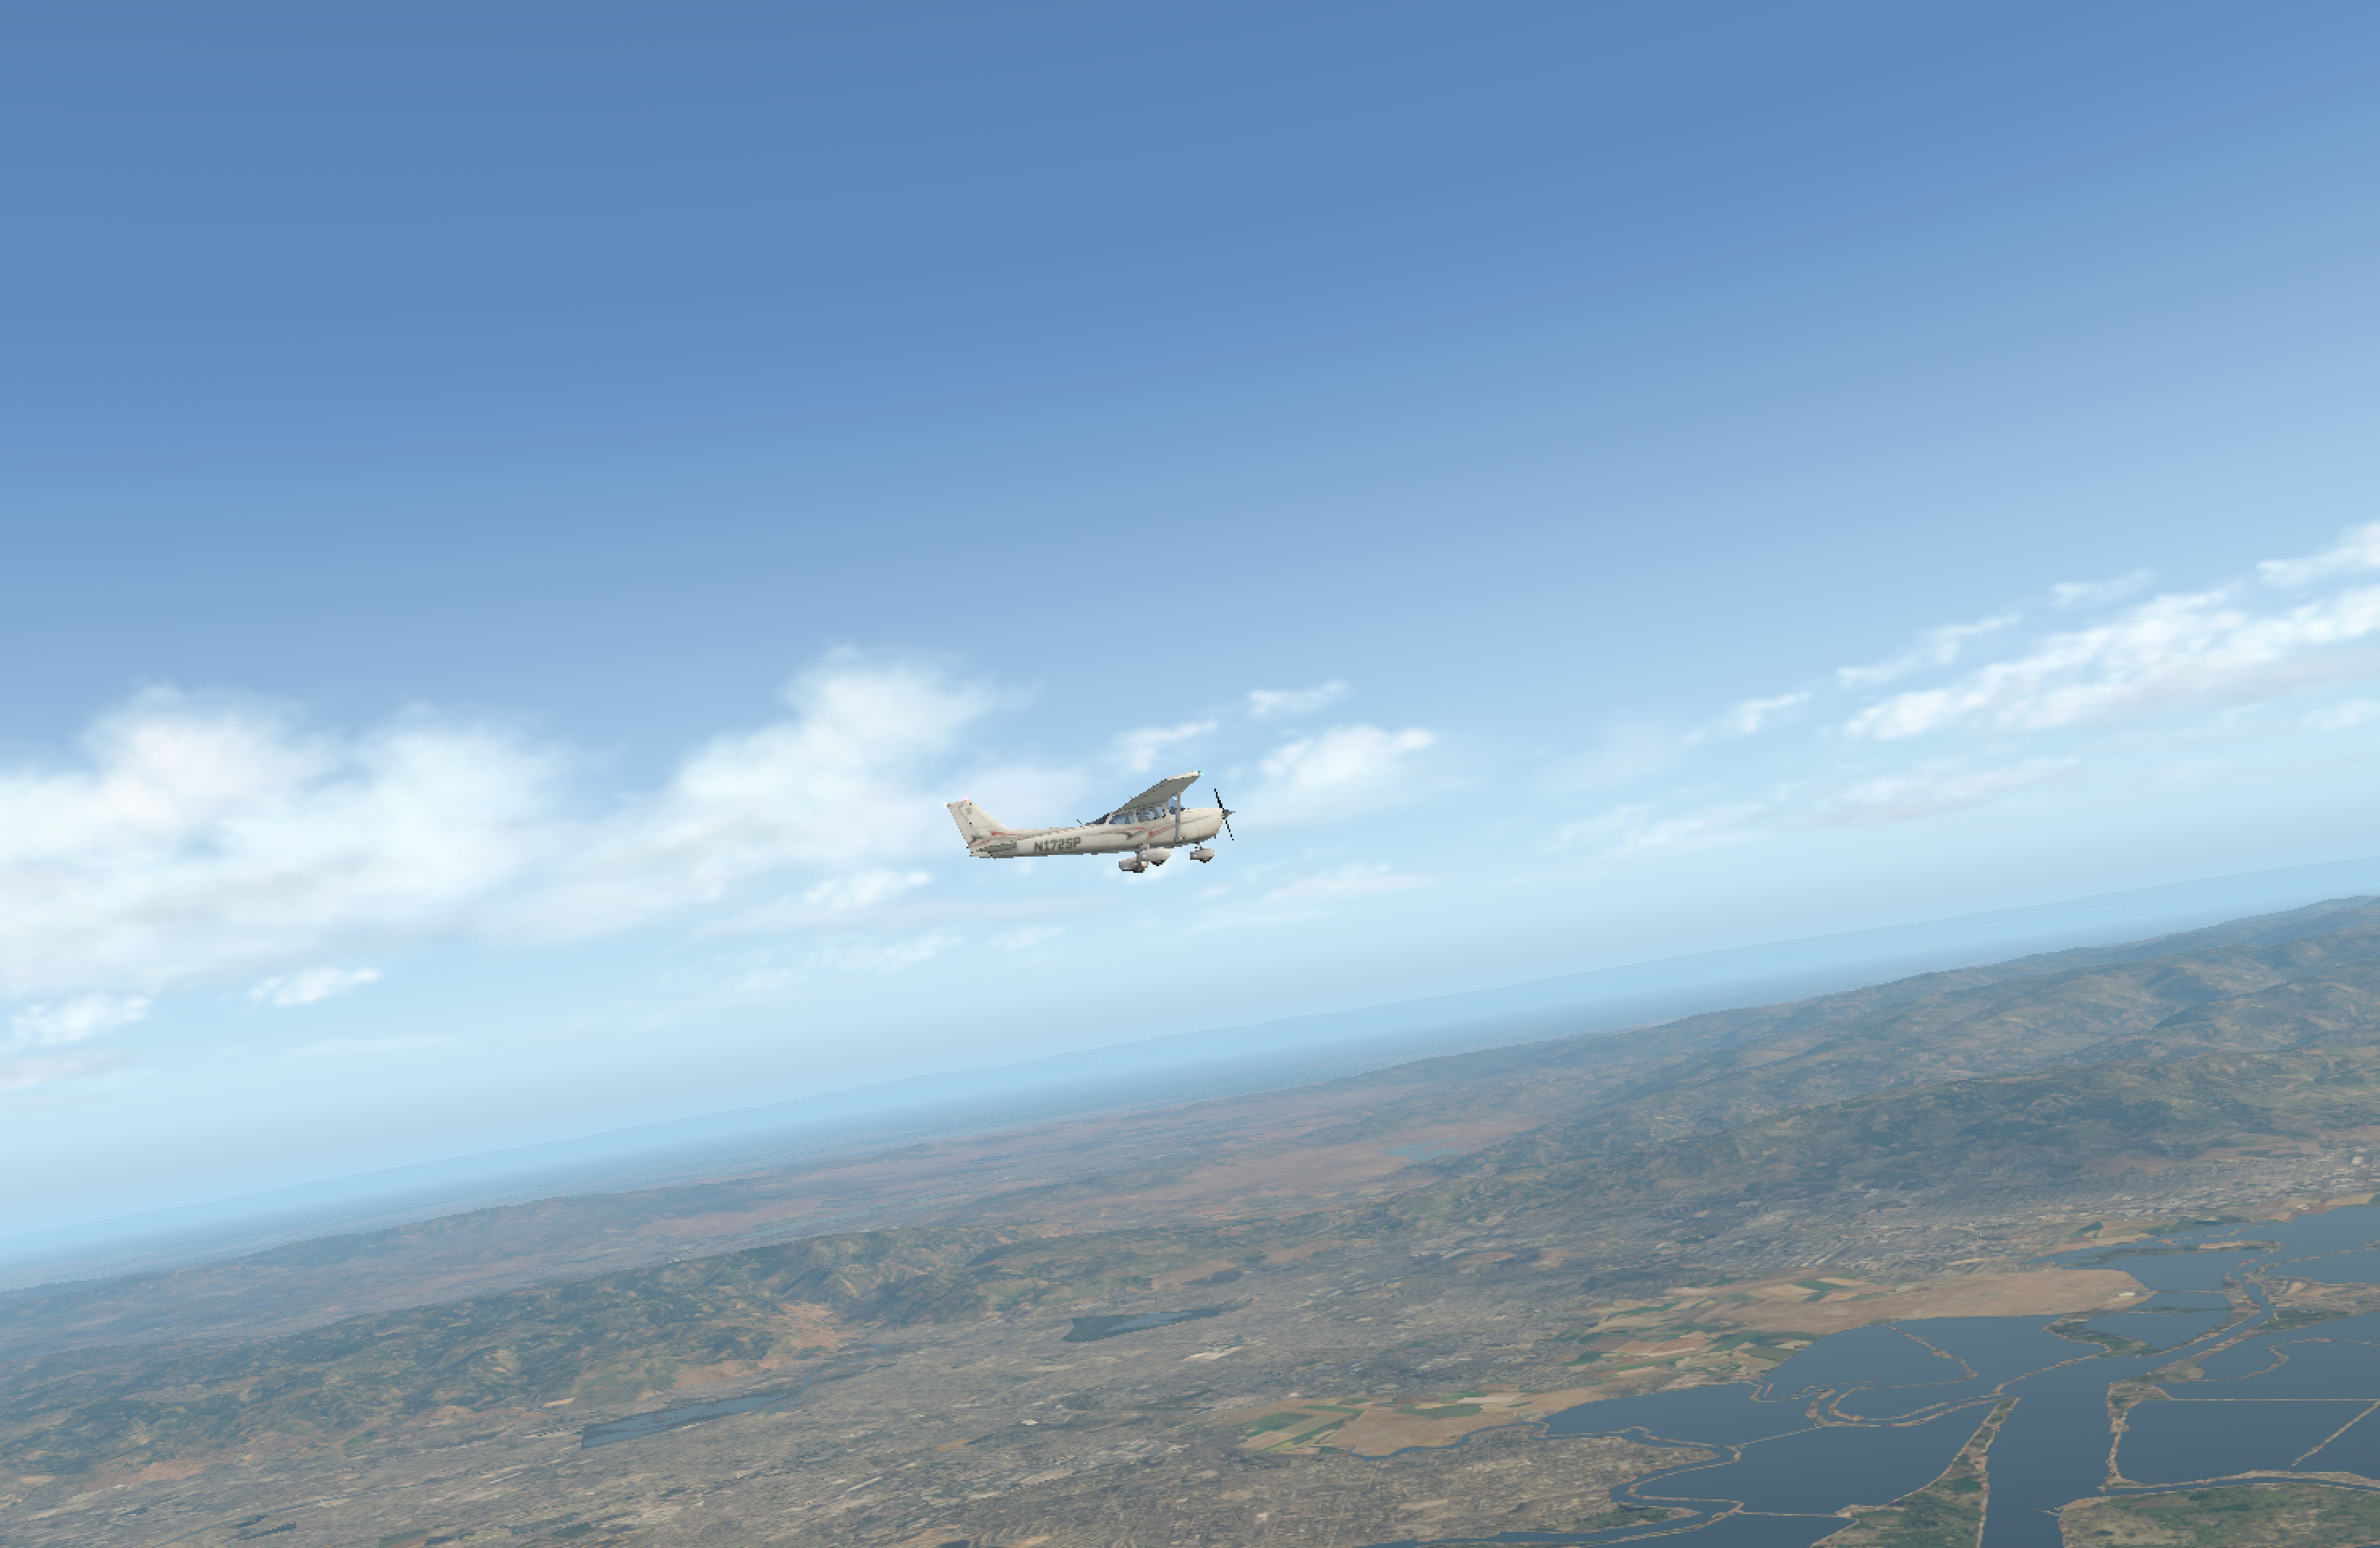aircraft: (1015, 771, 1291, 875)
